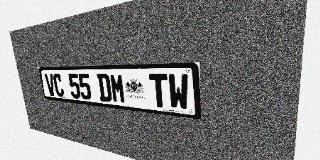5: (78, 74, 92, 100), (68, 74, 81, 99)
C: (52, 74, 65, 97)
D: (97, 74, 112, 102)
M: (109, 74, 126, 104)
T: (149, 74, 169, 108)
V: (44, 74, 56, 96)
W: (168, 74, 189, 111)
